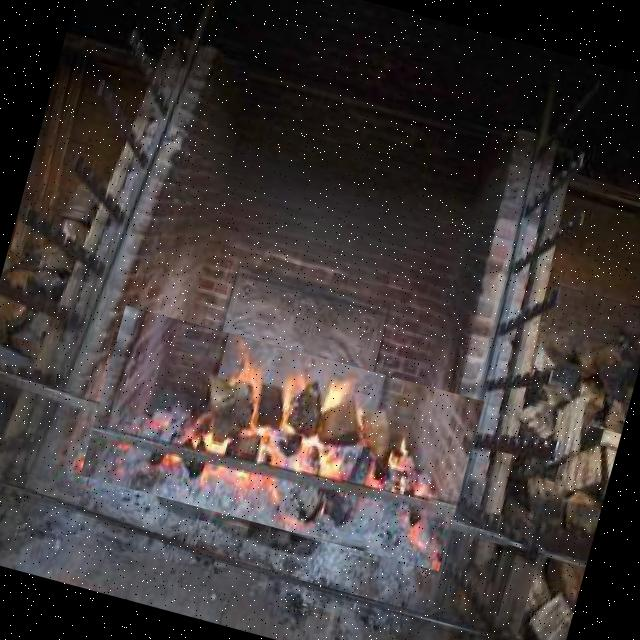fire: (80, 305, 483, 571)
